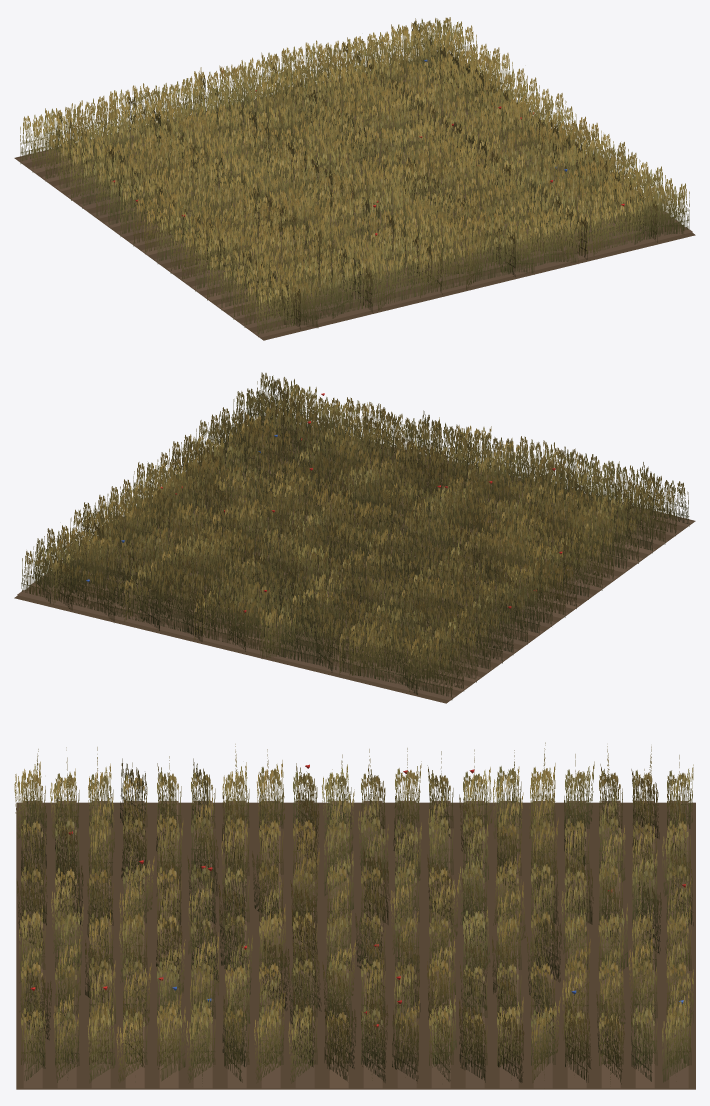
The model's file is field_crops.glb.
The picture shows the model from 3 angles, top to bottom: view 1: azimuth 30°, elevation 25°; view 2: azimuth 150°, elevation 25°; view 3: azimuth 270°, elevation 25°; orthographic projection. The views are drawn at different scales.
Visible parts, largest first — view 1: FieldCrops; view 2: FieldCrops; view 3: FieldCrops.
Boxes of the visible parts, left/top/right/bottom form: FieldCrops: left=14, top=17, right=695, bottom=340; FieldCrops: left=14, top=372, right=695, bottom=703; FieldCrops: left=14, top=742, right=695, bottom=1089.
Bounding box in the file's own units: 10 × 1.18 × 10.03.
Materials: 3 (1 with a texture image).
